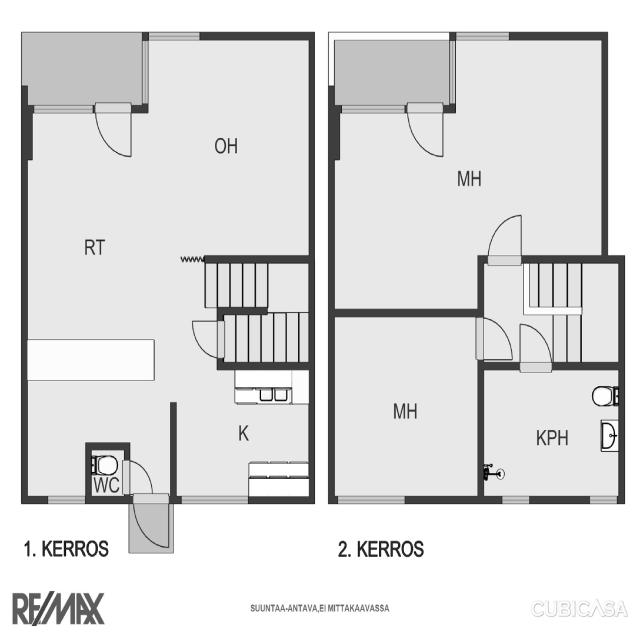door: (478, 198, 534, 273), (90, 97, 140, 168), (406, 95, 450, 168), (512, 307, 557, 375), (126, 491, 174, 553), (472, 310, 517, 364), (188, 314, 228, 360), (120, 460, 153, 494)
window: (326, 489, 414, 512), (442, 20, 511, 49), (162, 486, 252, 508), (136, 38, 160, 118), (28, 99, 96, 121), (445, 32, 462, 112), (576, 490, 628, 516), (484, 485, 534, 509), (141, 26, 204, 45), (42, 486, 84, 512), (336, 104, 410, 118)
zone: (142, 45, 314, 262), (23, 106, 154, 378), (452, 42, 608, 258), (332, 109, 479, 314), (330, 310, 480, 503), (479, 358, 623, 503), (24, 373, 171, 503), (179, 366, 308, 506), (89, 444, 125, 499)
